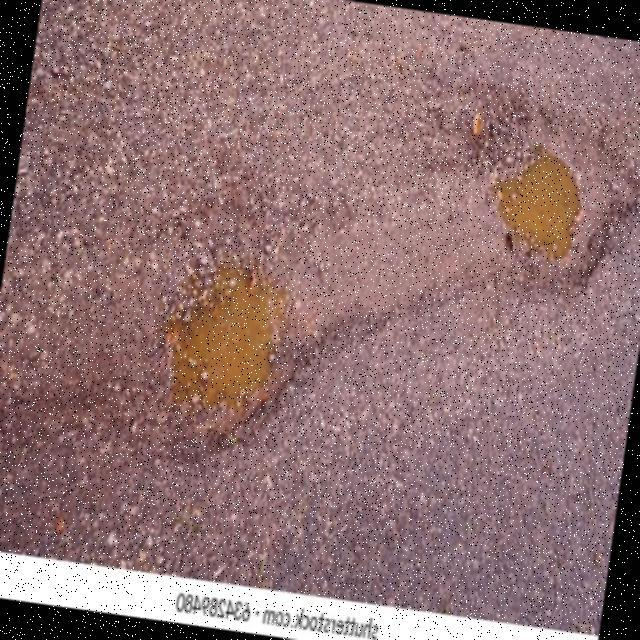Pothole: (164, 266, 289, 412), (491, 154, 582, 262)
